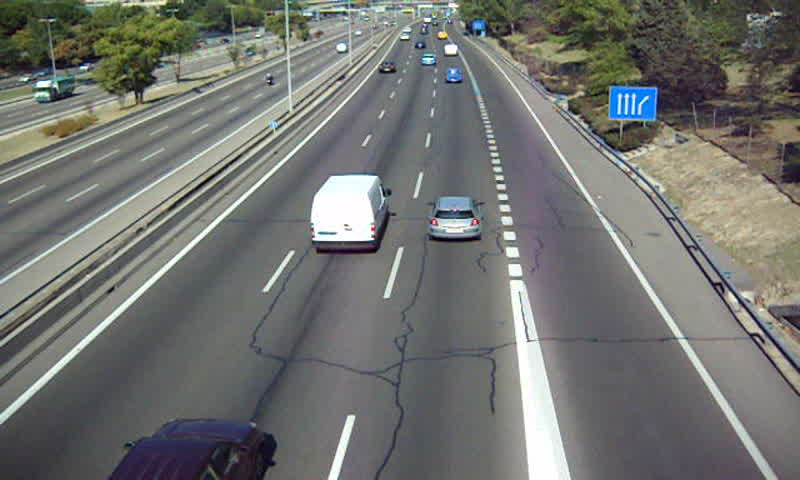car: (428, 198, 481, 240), (444, 66, 464, 83), (419, 52, 437, 67), (376, 60, 395, 74)
van: (310, 176, 389, 251)
